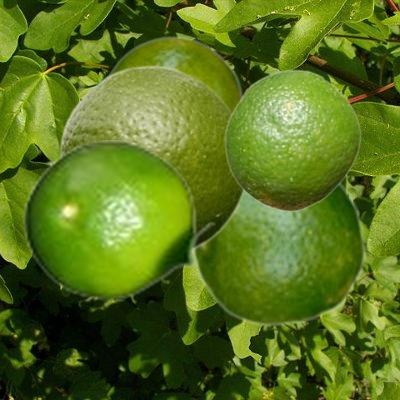calamansi: (59, 63, 244, 249), (22, 140, 216, 300), (45, 35, 243, 165), (194, 182, 366, 326), (224, 69, 360, 211)
